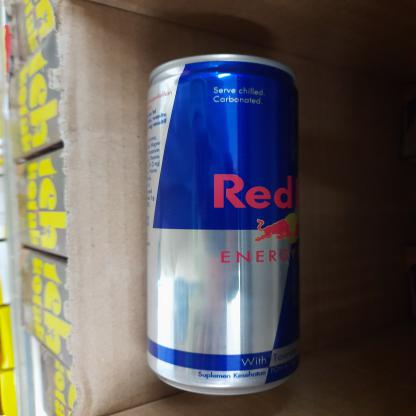mouse: (137, 50, 305, 400)
